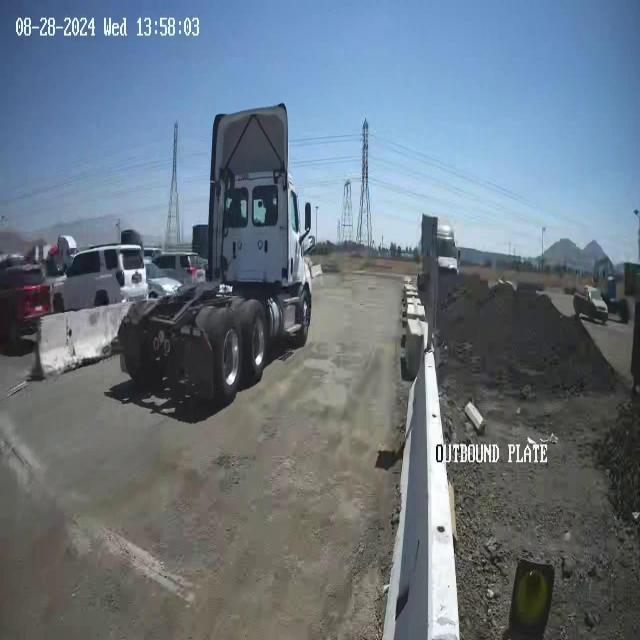BOBTAIL: (118, 101, 314, 407)
